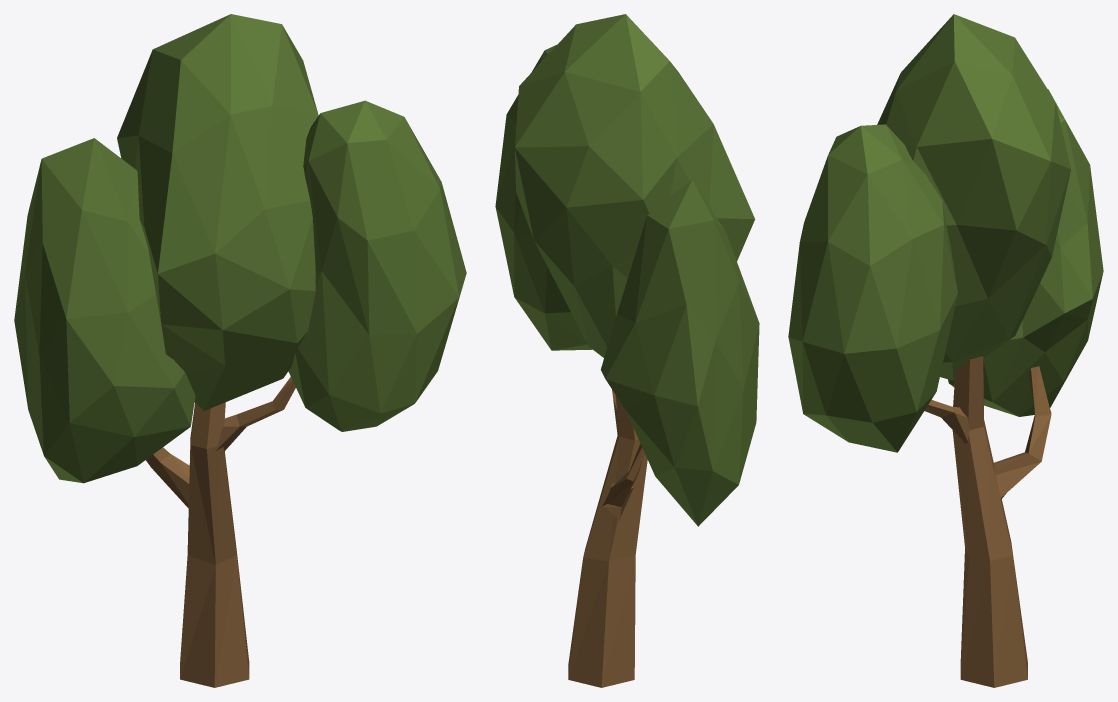
File: Tree_3_1.FBX
3 views of the same model, side by side, from view 1: azimuth 30°, elevation 25°; view 2: azimuth 150°, elevation 25°; view 3: azimuth 270°, elevation 25° (orthographic). The views are drawn at different scales.
Visible parts, largest first — view 1: Tree_3_1; view 2: Tree_3_1; view 3: Tree_3_1.
Boxes of the visible parts, x1=… form: Tree_3_1: x1=14, y1=14, x2=466, y2=687; Tree_3_1: x1=495, y1=14, x2=759, y2=687; Tree_3_1: x1=788, y1=14, x2=1103, y2=687.
Size of the model in its own units: 103 by 196 by 85.5.
1 material, 1 textured.
